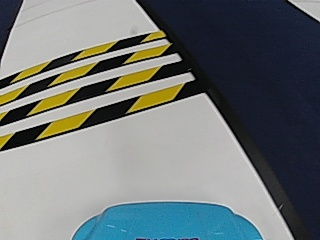bump: (9, 38, 159, 133)
